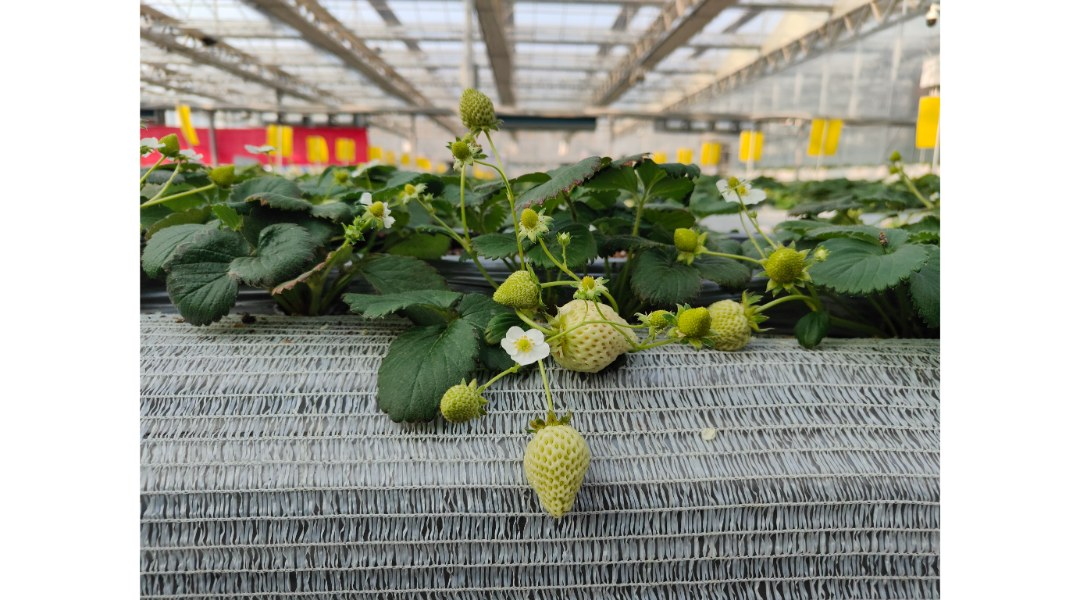berry: (522, 409, 591, 526), (551, 294, 638, 378), (699, 286, 761, 357), (758, 236, 818, 301), (438, 372, 486, 426), (485, 268, 545, 311), (456, 88, 510, 131), (439, 137, 484, 179), (668, 223, 710, 265), (515, 199, 551, 246), (671, 301, 717, 337), (631, 306, 677, 335)
flower: (500, 317, 554, 373), (707, 174, 775, 209), (361, 191, 398, 232)
strain: (455, 175, 474, 250), (533, 360, 554, 419), (721, 248, 762, 268)
